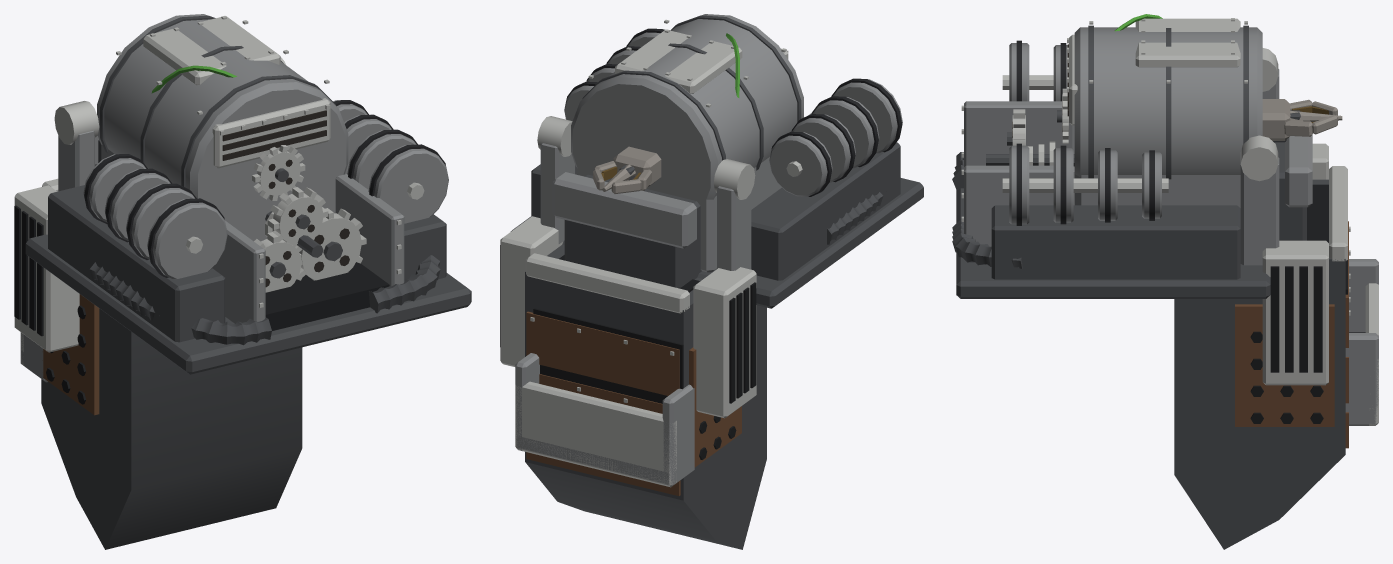
Rendered from asteroid-collector.glb.
3 renders of one model, left to right at view 1: azimuth 30°, elevation 25°; view 2: azimuth 150°, elevation 25°; view 3: azimuth 270°, elevation 25°, orthographic. The views are drawn at different scales.
Parts seen in each view (by area): view 1: body; view 2: body, anim_reach_collector_head, anim_reach_collector_claw_l; view 3: body, anim_reach_collector_head, anim_reach_collector_claw_r.
Boxes of the visible parts, box(x1,y1,x2,y2) form: body: box(14, 14, 471, 549); body: box(500, 14, 923, 549); anim_reach_collector_head: box(602, 146, 661, 191); anim_reach_collector_claw_l: box(611, 169, 651, 193); body: box(952, 14, 1378, 549); anim_reach_collector_head: box(1262, 99, 1342, 142); anim_reach_collector_claw_r: box(1284, 114, 1337, 136).
Size of the model in its own units: 2.96 by 4.78 by 3.86.
